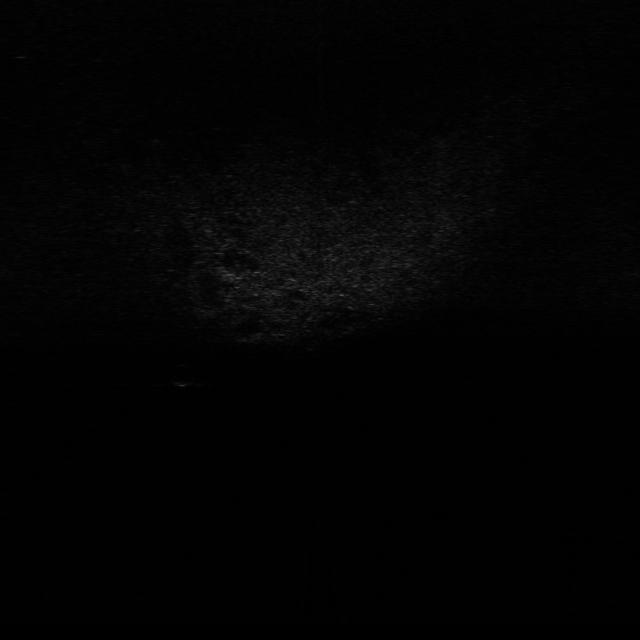ball: (162, 362, 200, 391)
